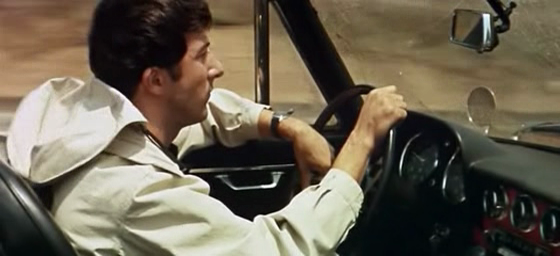face: (179, 28, 224, 124)
mcu: (1, 1, 560, 256)
person: (4, 1, 406, 256)
